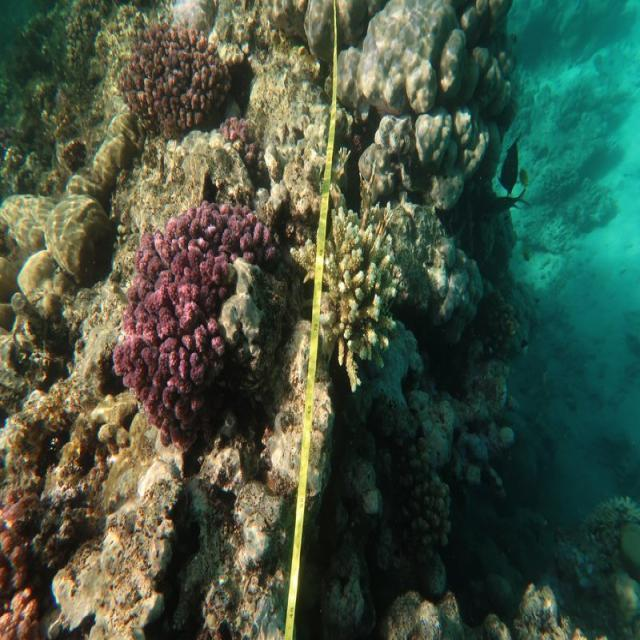Healthy Coral: (112, 206, 232, 452)
